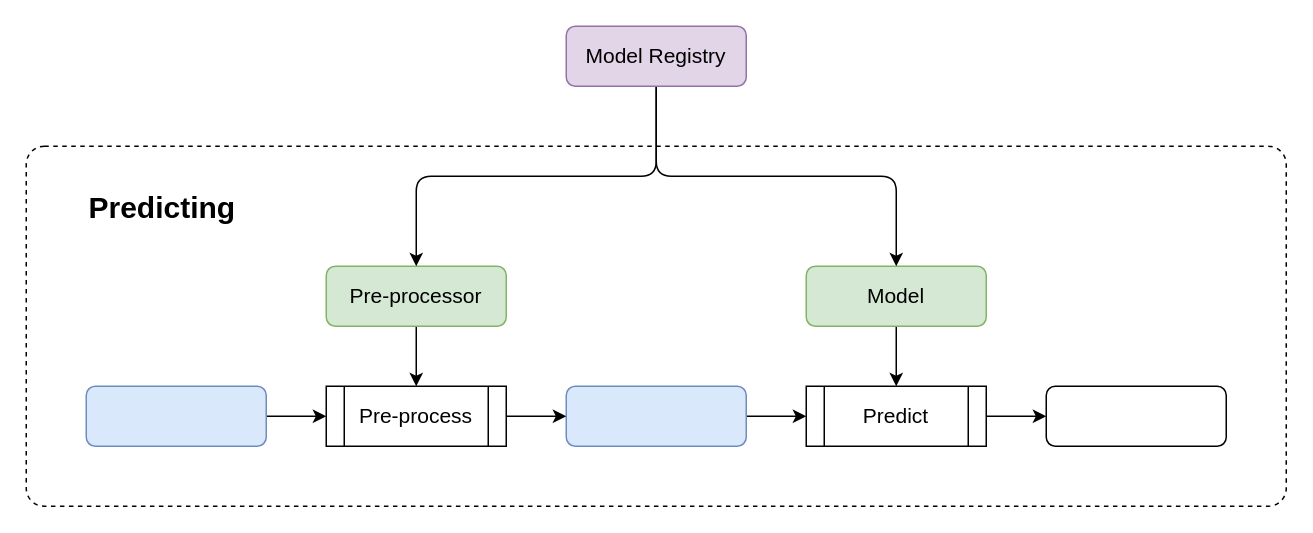
Some shapes in this 1313 by 533 pixel diagram are drawn without their labels. The shapes that lost their labels are listed below. From the top down, each one's centre as x and y in pixels, then its label:
At (175,415): "New Raw Data".
At (655,415): "Pre-processed Train Data".
At (1135,415): "Predictions".
